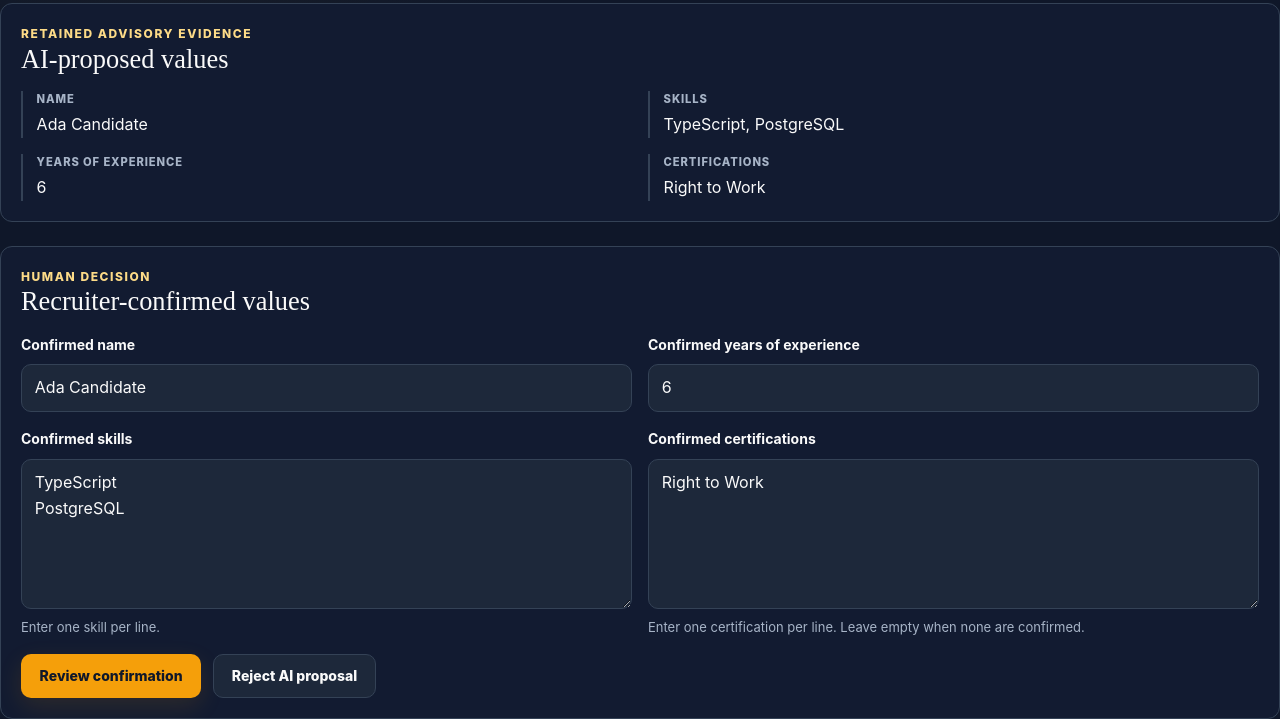
Test: CvProposalReview › preserves edits and logical identity across a recoverable confirmation retry
The width and height of the screenshot is (1280, 719).
(page scrolled)
Replace the text in the field labelled "Confirmed name" with "Ada Z. Candidate" at (326, 388), box x1=21 y1=364 x2=632 y2=412
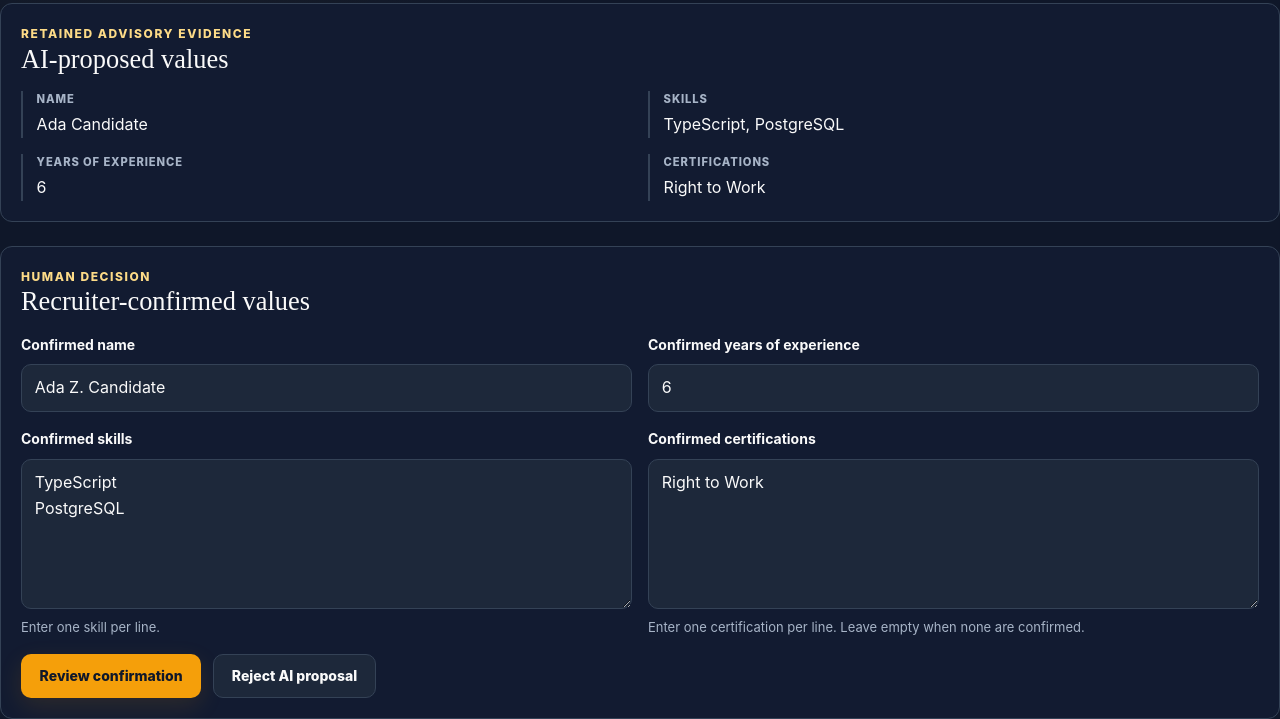
Replace the text in the number field labelled "Confirmed years of experience" with "7" at (954, 388), box x1=648 y1=364 x2=1259 y2=412
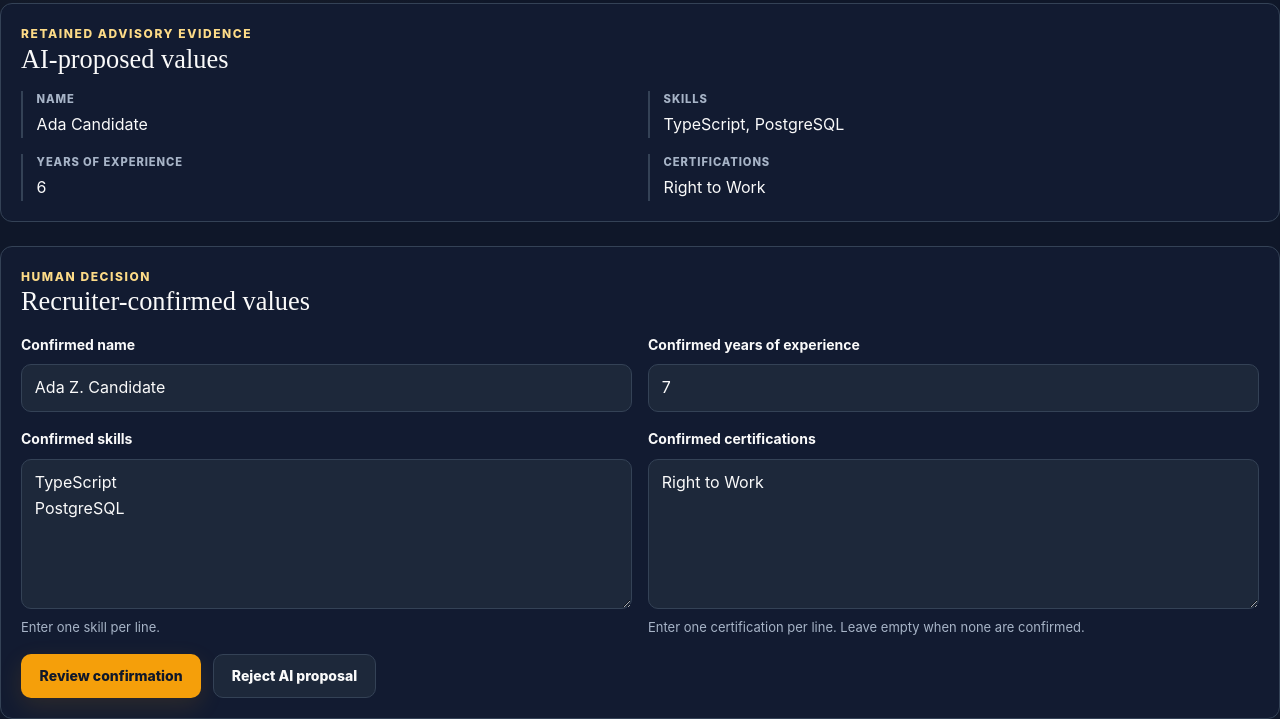
Submit the form named "Review confirmation"
(page scrolled)
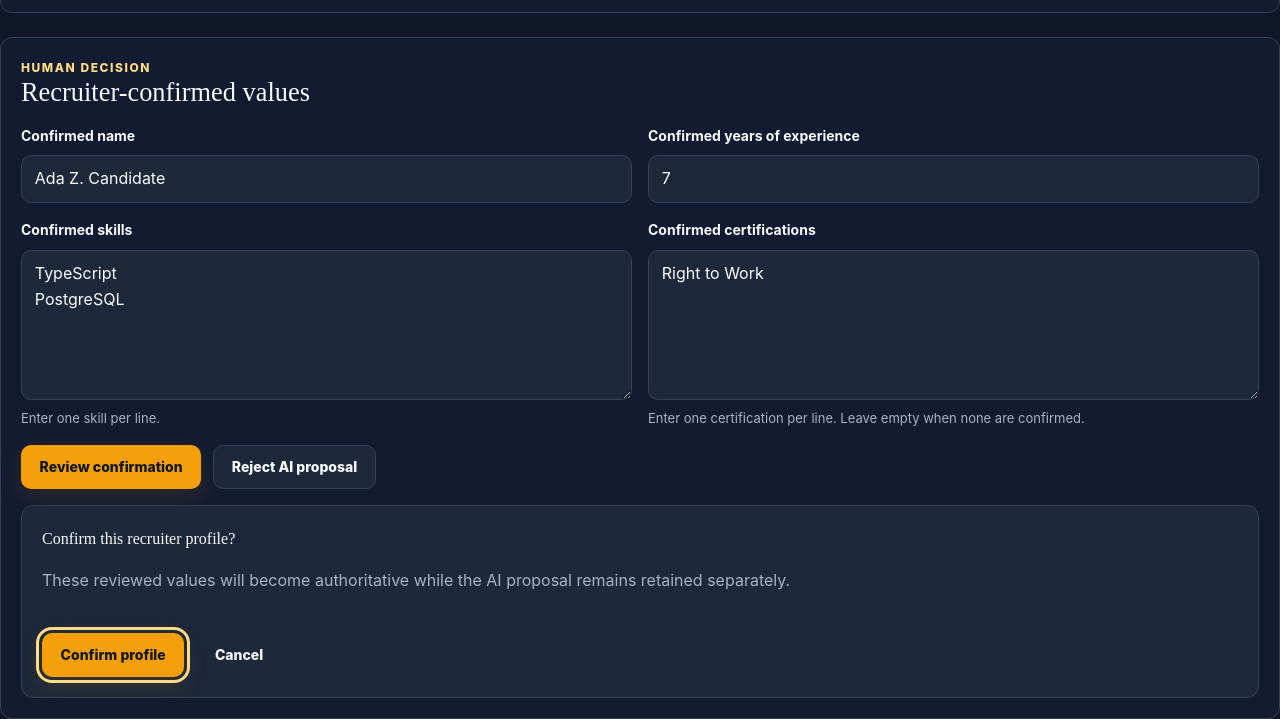
Click the button "Confirm profile" at (113, 655), box x1=42 y1=633 x2=184 y2=677
(page scrolled)
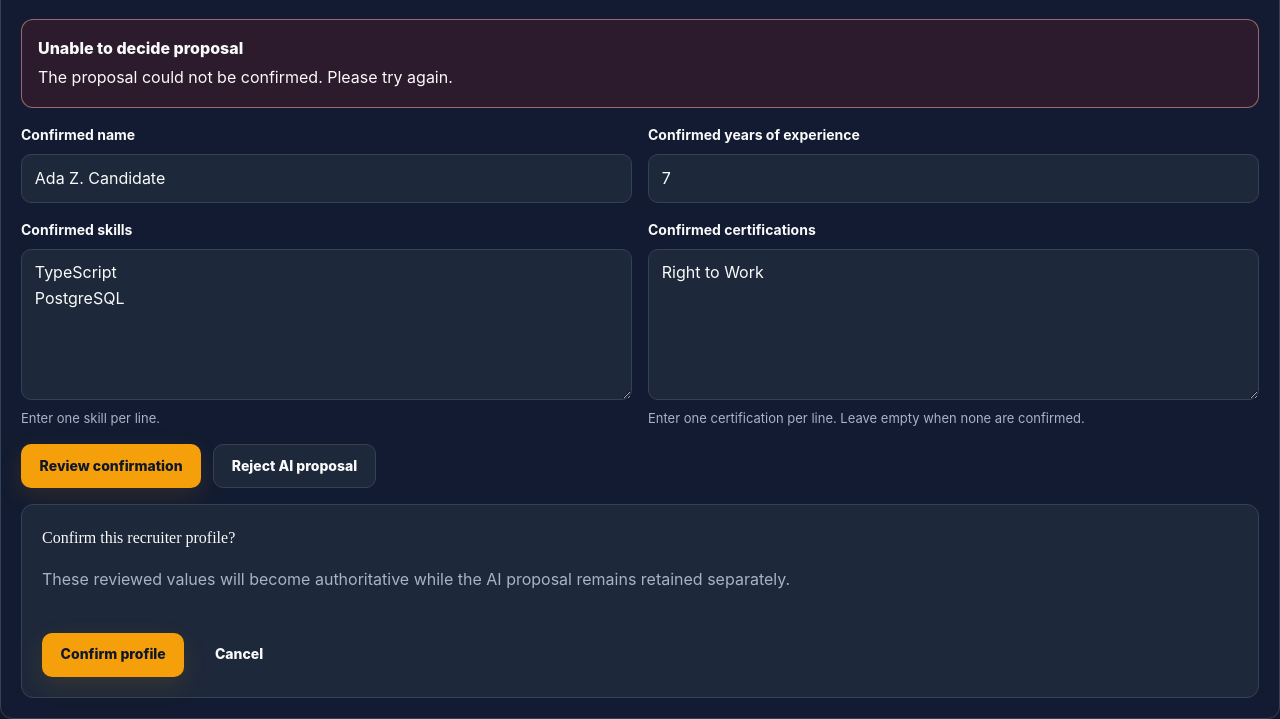
Result: the text "The proposal could not be confirmed. Please try again." is shown at x1=38 y1=67 x2=453 y2=87
Click the button "Confirm profile" at (113, 655), box x1=42 y1=633 x2=184 y2=677
(page scrolled)
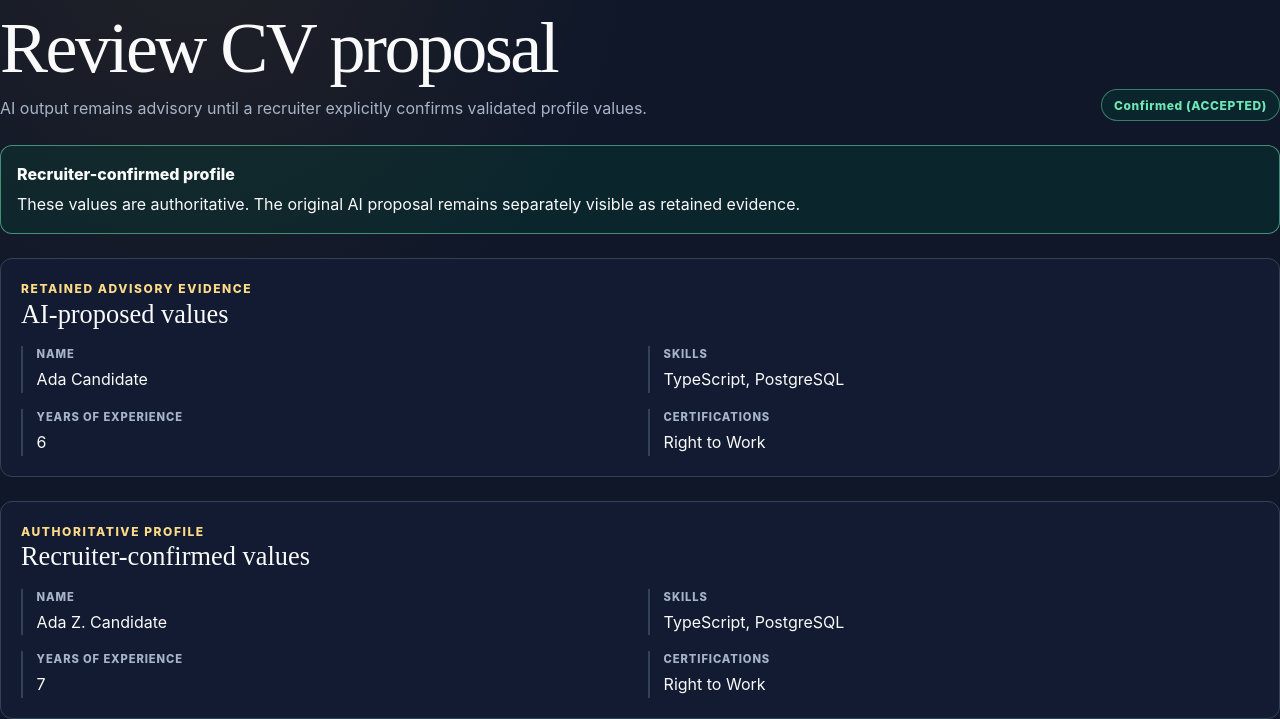
Result: the text "Recruiter-confirmed profile" is shown at x1=17 y1=164 x2=235 y2=184
